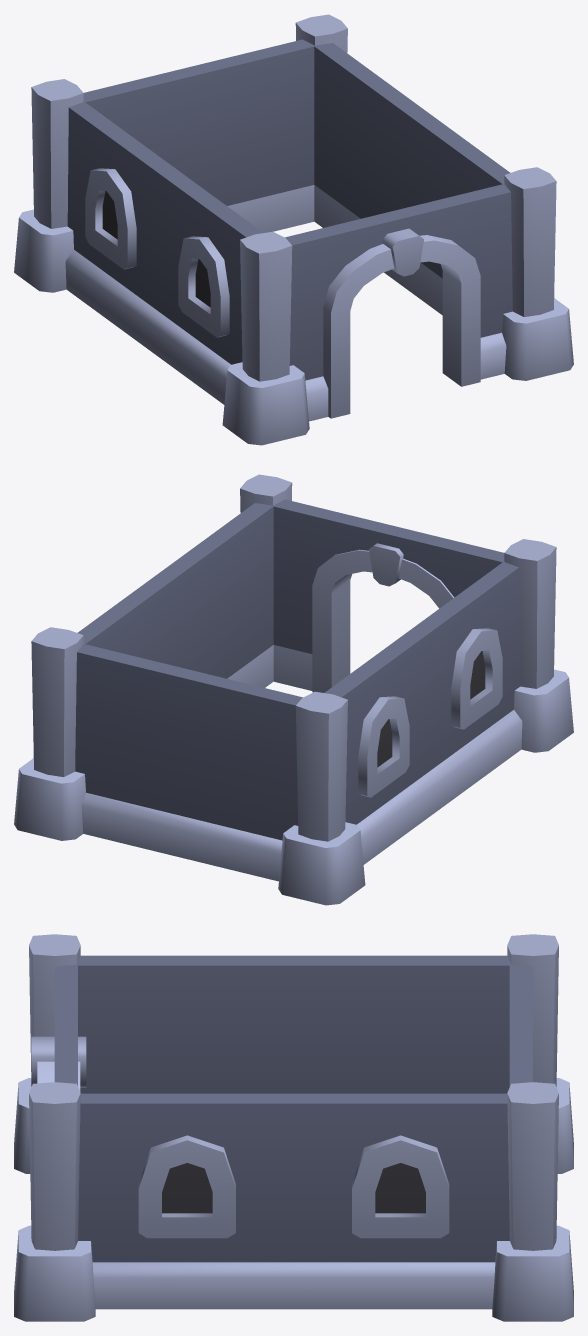
Rendered from crypt-large_lev2.glb.
3 views of the same model, one above another, from view 1: azimuth 30°, elevation 25°; view 2: azimuth 150°, elevation 25°; view 3: azimuth 270°, elevation 25° (orthographic). The views are drawn at different scales.
Parts seen in each view (by area): view 1: crypt-large_lev2; view 2: crypt-large_lev2; view 3: crypt-large_lev2.
Part boxes in pixels (box(x1,y1,x2,y2)): crypt-large_lev2: box(14, 14, 573, 445); crypt-large_lev2: box(14, 474, 573, 905); crypt-large_lev2: box(14, 934, 573, 1321).
Bounding box in the file's own units: 14.8 × 8 × 19.2.
Materials: 1 (1 with a texture image).
